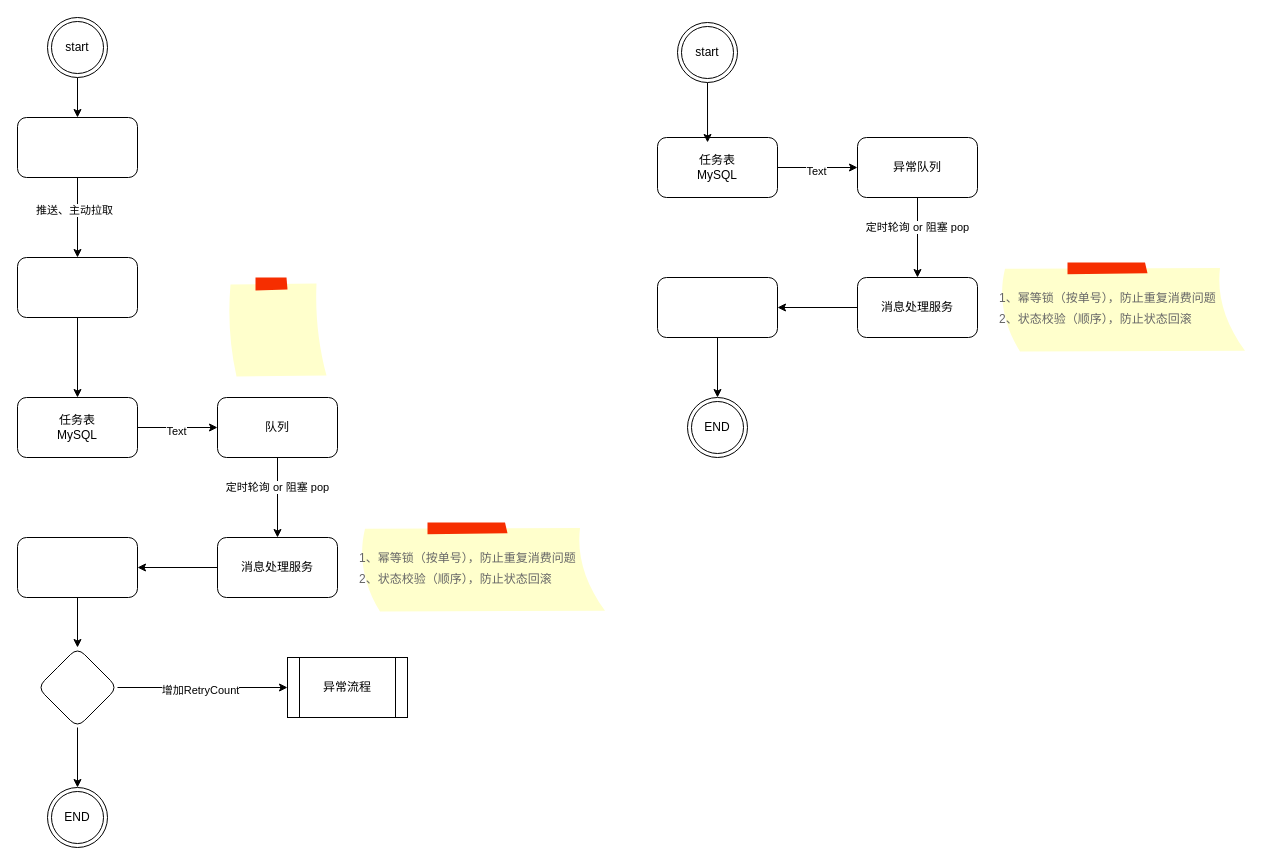
Image size: 1265x865. Some labels were removed from this diagram. Each missing label, with the centre of its shape:
1、回写任务状态 2、增加重试次数: (717,307)
MQ、Redis: (277,327)
回写任务状态: (77,567)
外部系统（合思）: (77,147)
成功？: (77,687)
拉单服务 or 接口: (77,287)
